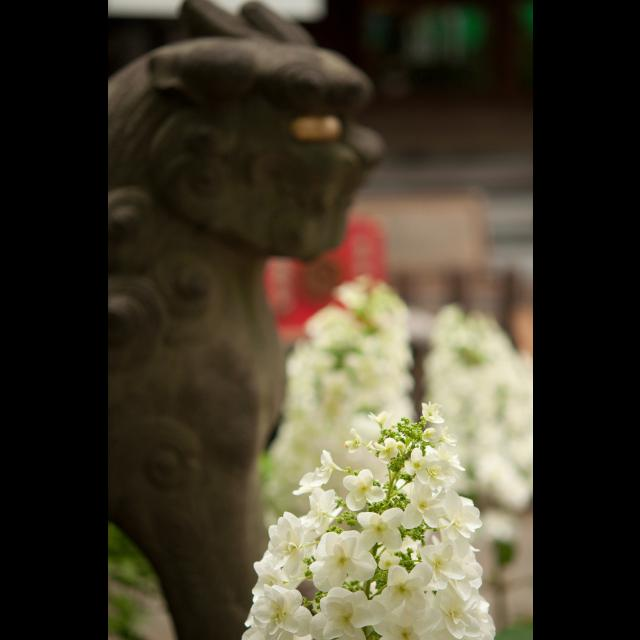Flower: (233, 408, 504, 634), (244, 266, 426, 498), (432, 312, 532, 504), (344, 469, 386, 511)
